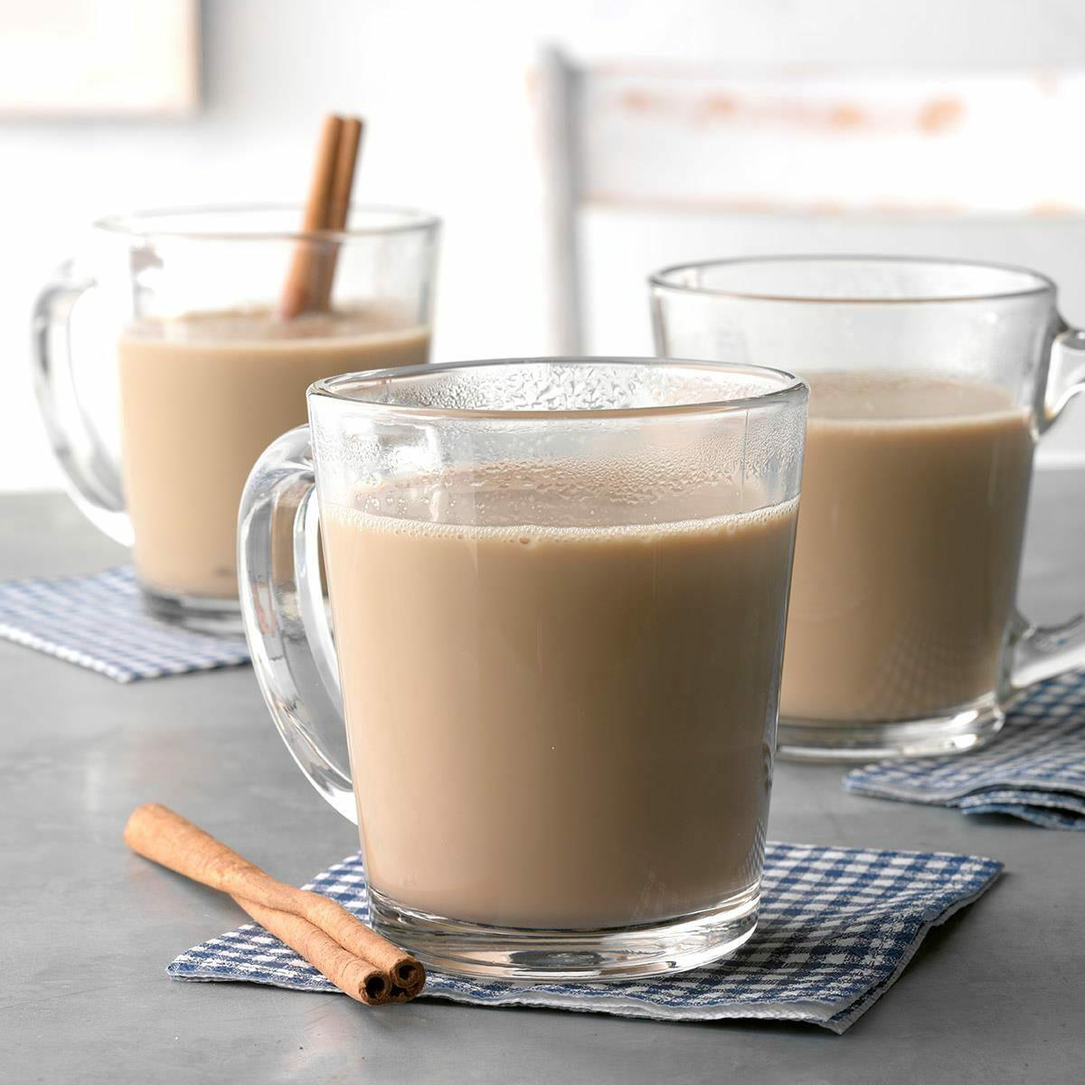Chai: (324, 478, 799, 912), (116, 303, 432, 603), (764, 378, 1034, 704)
